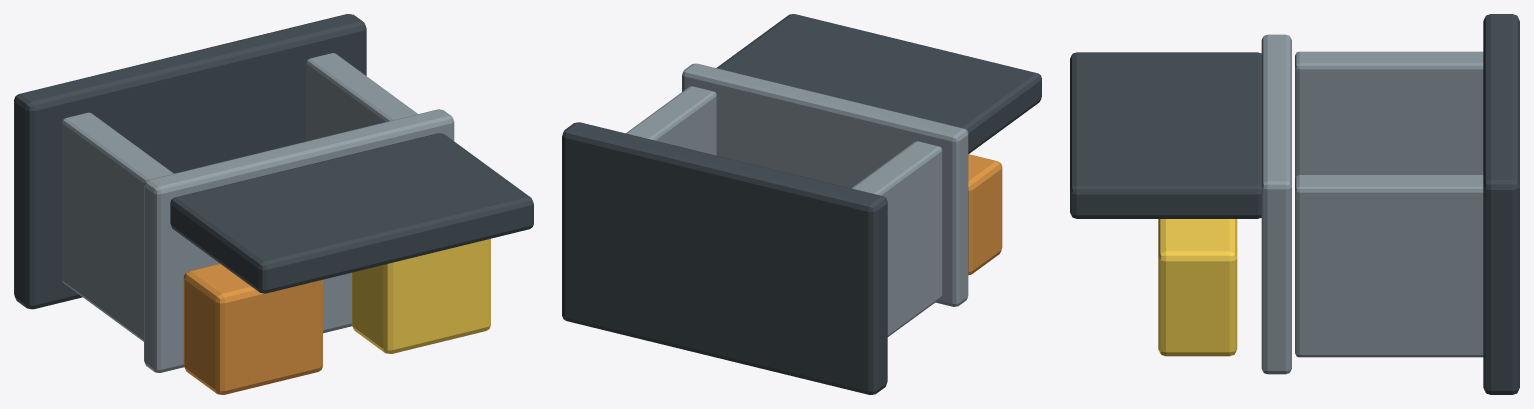
File: salvage_sorter_derelict_v1.glb
3 views of the same model, side by side, from view 1: azimuth 30°, elevation 25°; view 2: azimuth 150°, elevation 25°; view 3: azimuth 270°, elevation 25° (orthographic). The views are drawn at different scales.
Visible parts, largest first — view 1: SorterBase, SorterRear, SorterTable, SorterLeftLeg, SorterBinLeft, SorterBinRight, SorterRightLeg; view 2: SorterBase, SorterTable, SorterRear, SorterLeftLeg, SorterRightLeg, SorterBinLeft; view 3: SorterRightLeg, SorterRear, SorterLeftLeg, SorterBase, SorterBinRight, SorterTable.
Part boxes in pixels (x1=…): SorterBase: x1=14, y1=14, x2=366, y2=309; SorterRear: x1=170, y1=133, x2=533, y2=293; SorterTable: x1=144, y1=109, x2=454, y2=372; SorterLeftLeg: x1=62, y1=112, x2=173, y2=341; SorterBinLeft: x1=183, y1=263, x2=322, y2=394; SorterBinRight: x1=351, y1=238, x2=490, y2=353; SorterRightLeg: x1=306, y1=53, x2=417, y2=141; SorterBase: x1=562, y1=122, x2=887, y2=394; SorterTable: x1=682, y1=63, x2=968, y2=306; SorterRear: x1=716, y1=14, x2=1041, y2=153; SorterLeftLeg: x1=851, y1=141, x2=942, y2=336; SorterRightLeg: x1=626, y1=86, x2=716, y2=155; SorterBinLeft: x1=968, y1=154, x2=1002, y2=275; SorterRightLeg: x1=1295, y1=175, x2=1483, y2=357; SorterRear: x1=1070, y1=52, x2=1261, y2=218; SorterLeftLeg: x1=1295, y1=51, x2=1483, y2=178; SorterBase: x1=1483, y1=14, x2=1519, y2=394; SorterBinRight: x1=1158, y1=219, x2=1237, y2=356; SorterTable: x1=1261, y1=34, x2=1291, y2=374.
Bounding box in the file's own units: 1.34 × 0.78 × 1.48.
